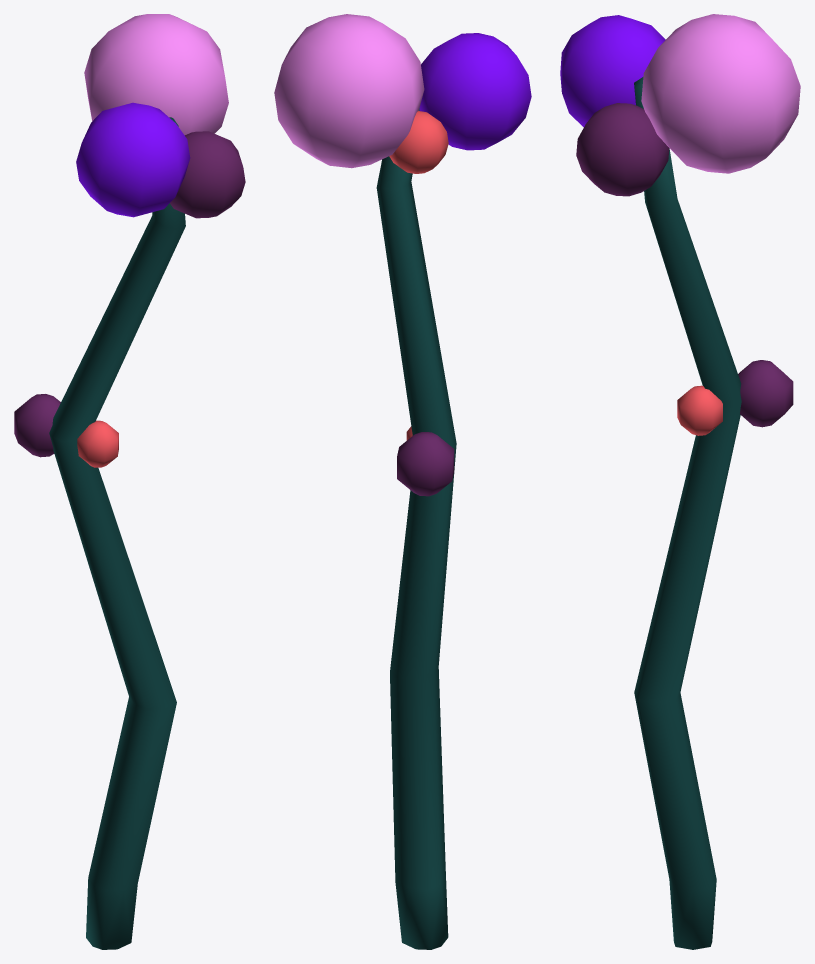
File: alienPlantCold.glb
3 renders of one model, left to right at view 1: azimuth 30°, elevation 25°; view 2: azimuth 150°, elevation 25°; view 3: azimuth 270°, elevation 25°, orthographic. The views are drawn at different scales.
Visible parts, largest first — view 1: AlienPlant.010; view 2: AlienPlant.010; view 3: AlienPlant.010.
Part boxes in pixels (<box>): AlienPlant.010: <box>14,14,245,949</box>; AlienPlant.010: <box>274,14,531,949</box>; AlienPlant.010: <box>560,14,800,949</box>.
Bounding box in the file's own units: 0.2146 × 1 × 0.2277.
Materials: 1 (1 with a texture image).
